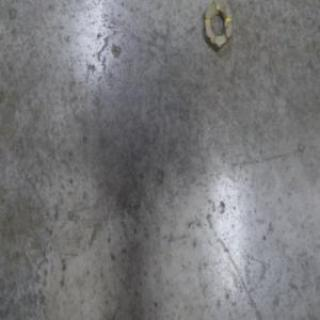Nuttrack_idkeyframe: (203, 0, 234, 52)
